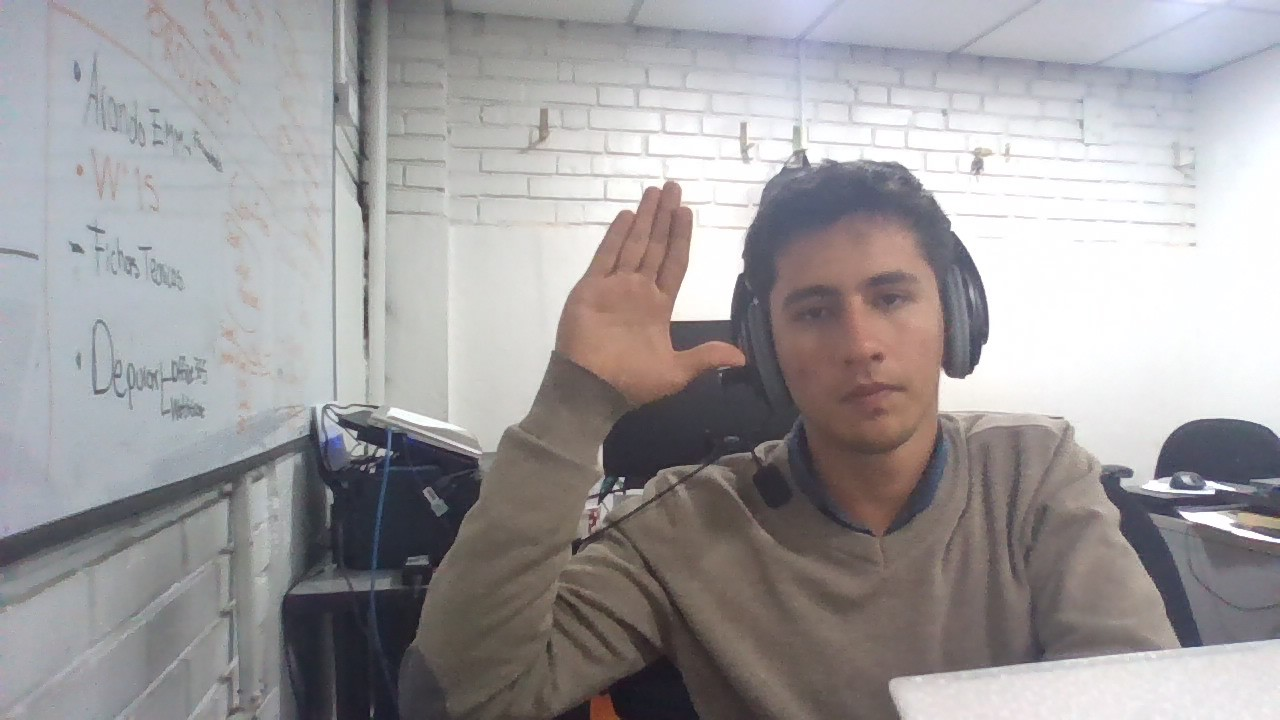hola: (552, 177, 749, 408)
